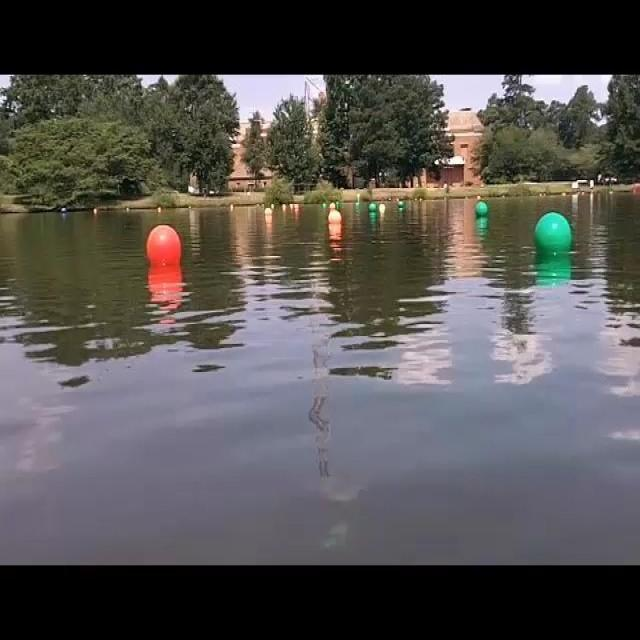buoy: (534, 212, 572, 258), (147, 224, 182, 270)
